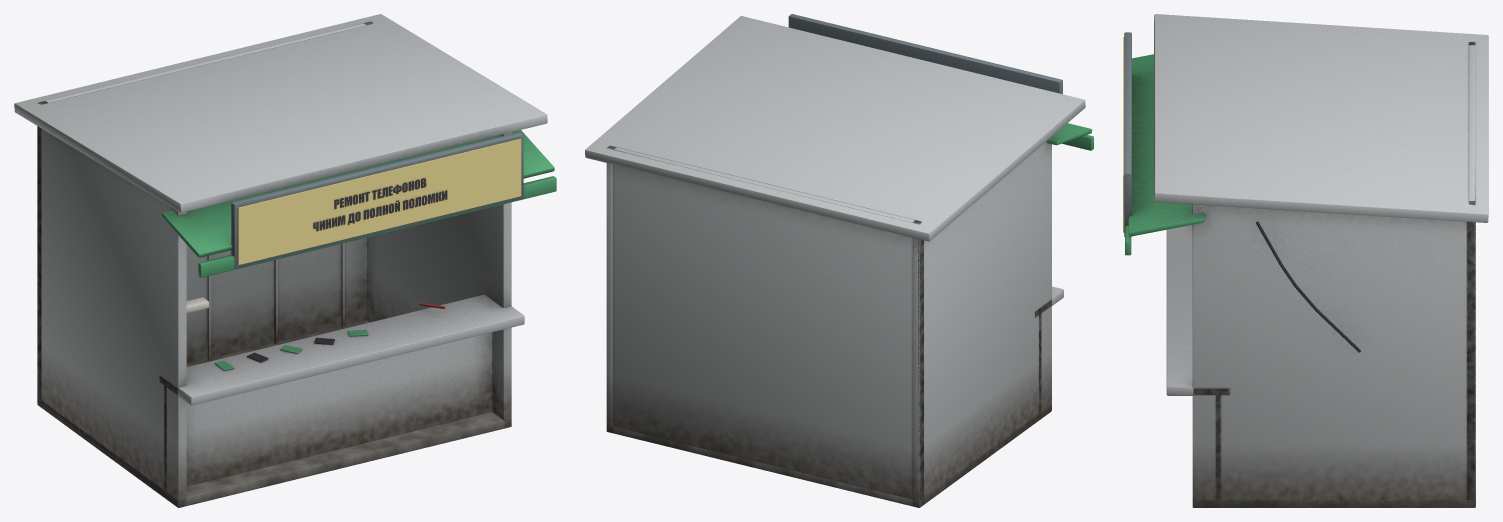
The model's file is g67_pz_kiosk_phones.glb.
3 renders of one model, left to right at view 1: azimuth 30°, elevation 25°; view 2: azimuth 150°, elevation 25°; view 3: azimuth 270°, elevation 25°, orthographic. The views are drawn at different scales.
Visible parts, largest first — view 1: g67_pz_kiosk_phones; view 2: g67_pz_kiosk_phones; view 3: g67_pz_kiosk_phones.
Part boxes in pixels (x1=…): g67_pz_kiosk_phones: x1=14, y1=14, x2=556, y2=507; g67_pz_kiosk_phones: x1=585, y1=14, x2=1093, y2=507; g67_pz_kiosk_phones: x1=1123, y1=14, x2=1488, y2=507.
Size of the model in its own units: 3.36 by 2.78 by 2.84.
1 material, 1 textured.
